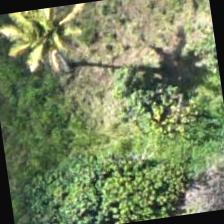Kelapa_Sawit: (0, 3, 89, 91)
